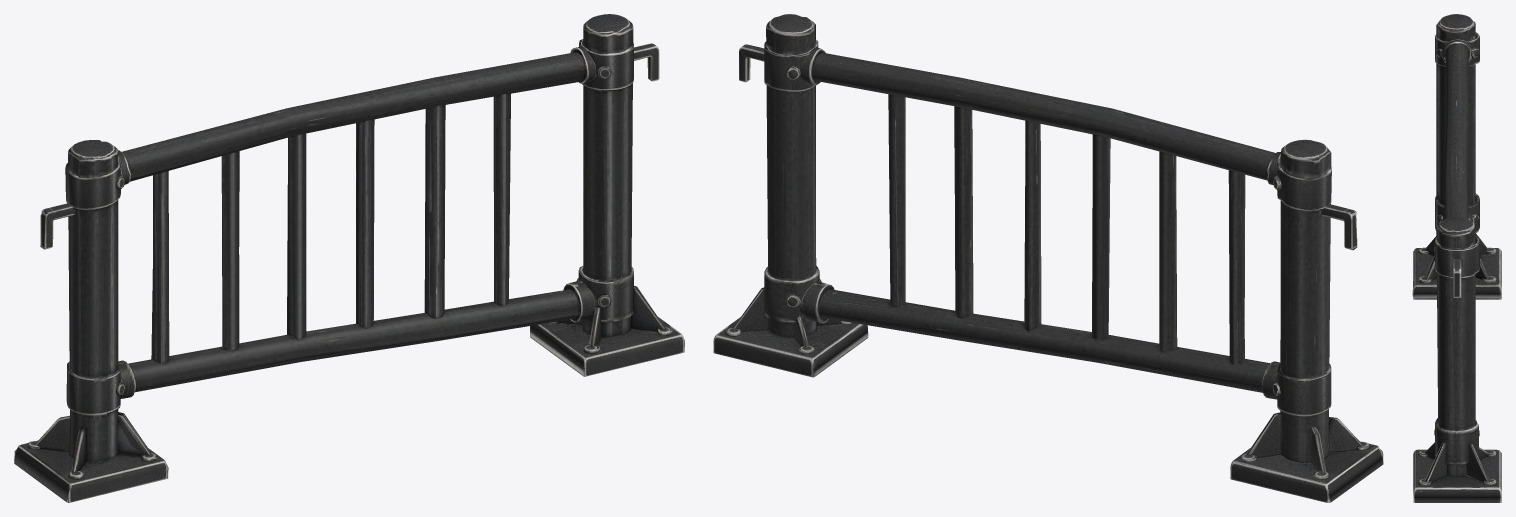
The model's file is rail_opt.glb.
3 renders of one model, left to right at view 1: azimuth 30°, elevation 25°; view 2: azimuth 150°, elevation 25°; view 3: azimuth 270°, elevation 25°, orthographic. The views are drawn at different scales.
Bounding box in the file's own units: 0.9556 × 0.4775 × 0.1484.
Materials: 1 (1 with a texture image).
